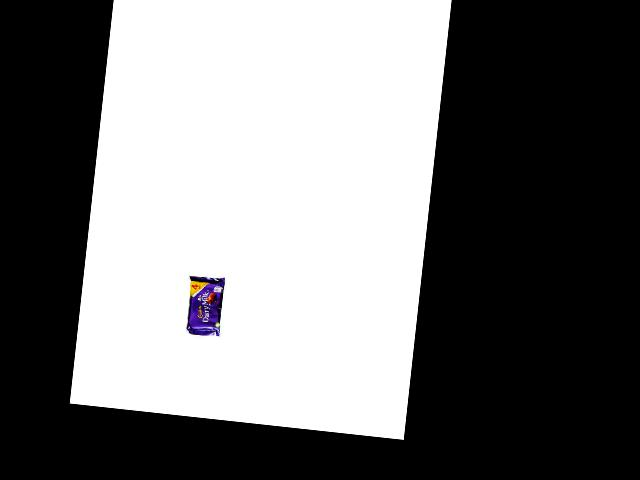chocolate: (183, 267, 231, 339)
